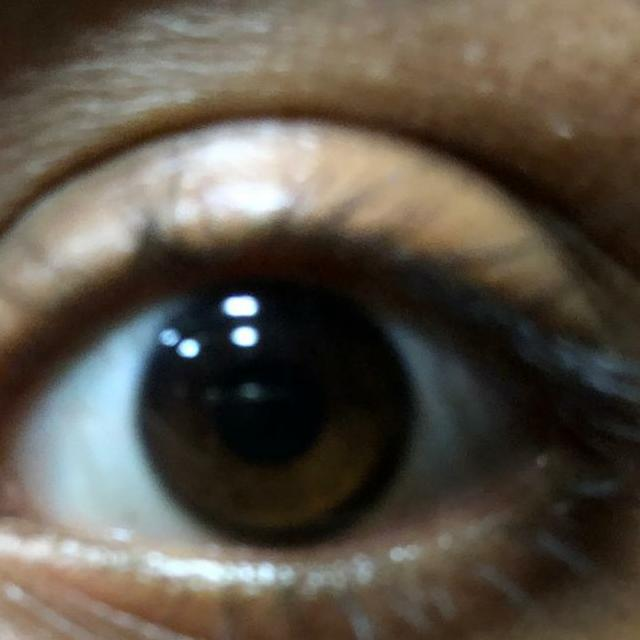eye: (1, 274, 549, 547)
iris: (137, 290, 417, 541)
